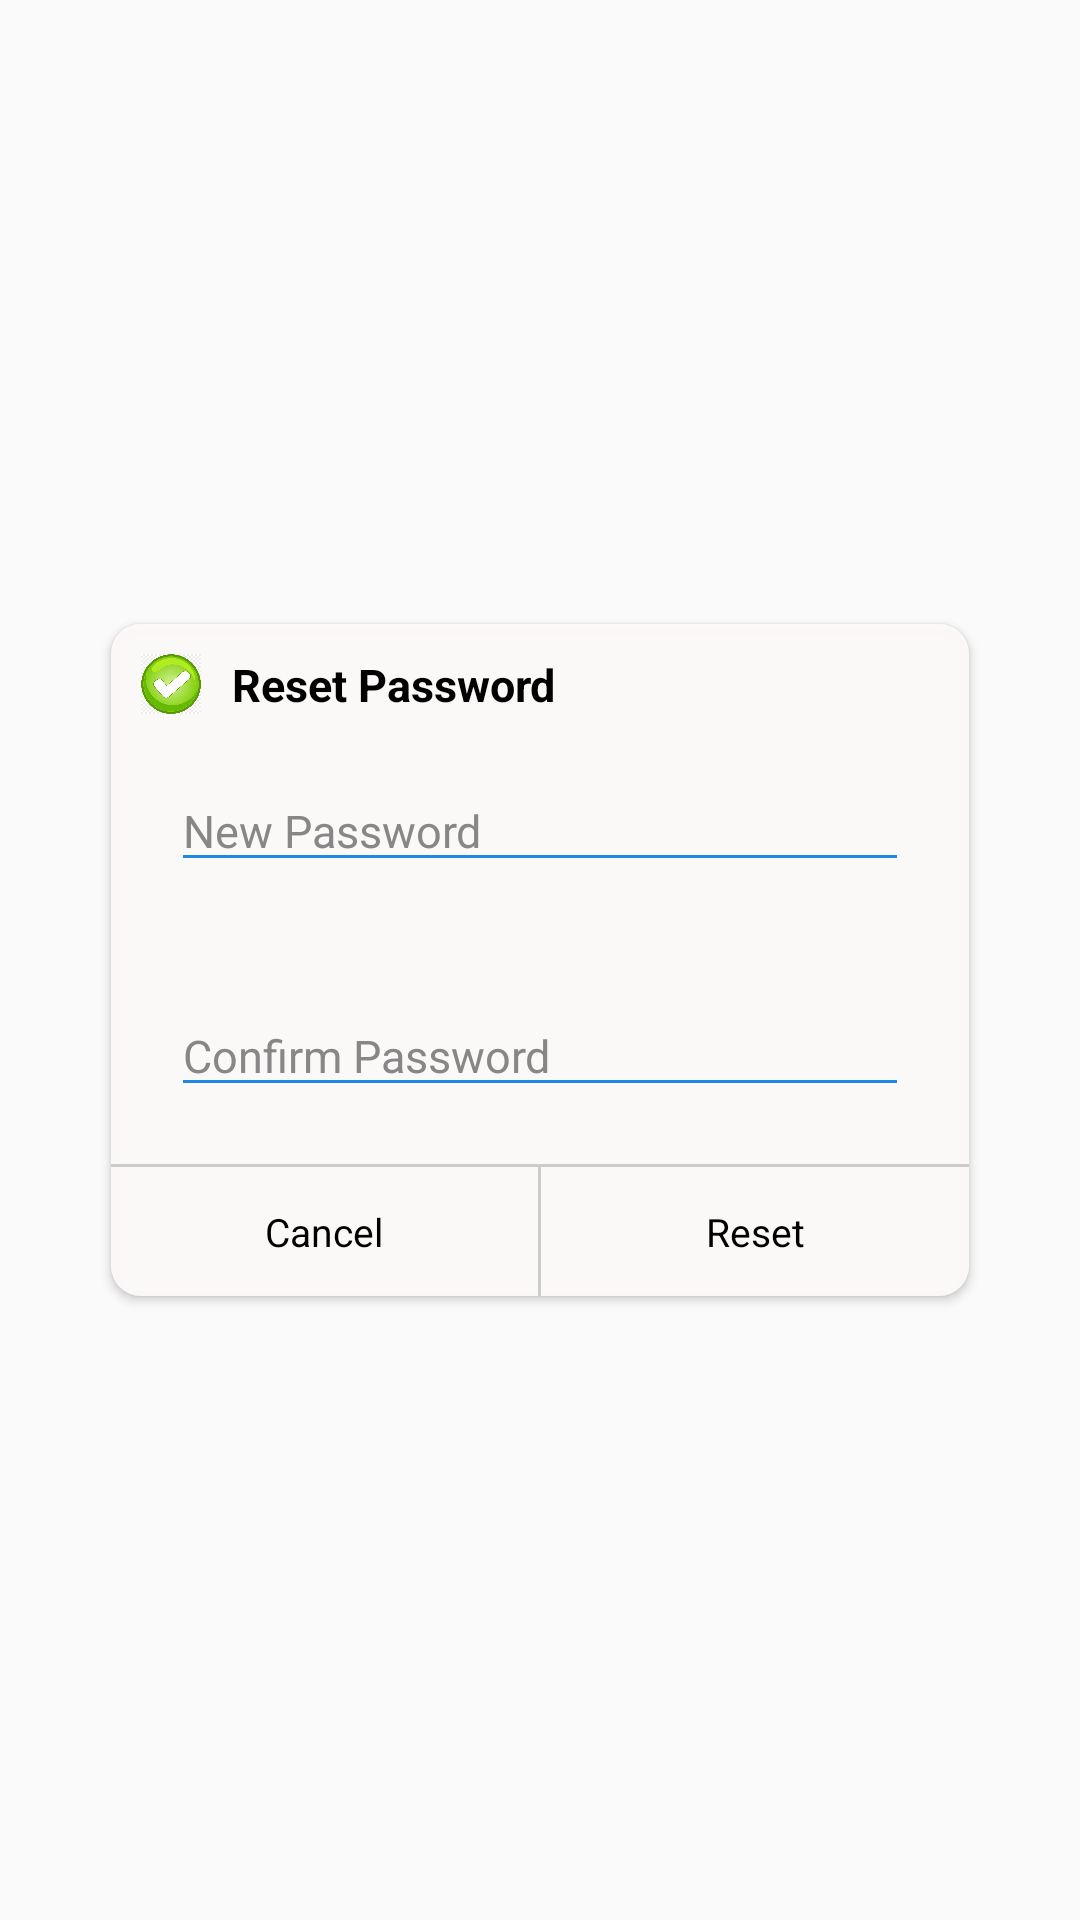

Point at icon controls on the screen. Image size 1080px×1920px, points as [x,y].
confirm: [171,684]
